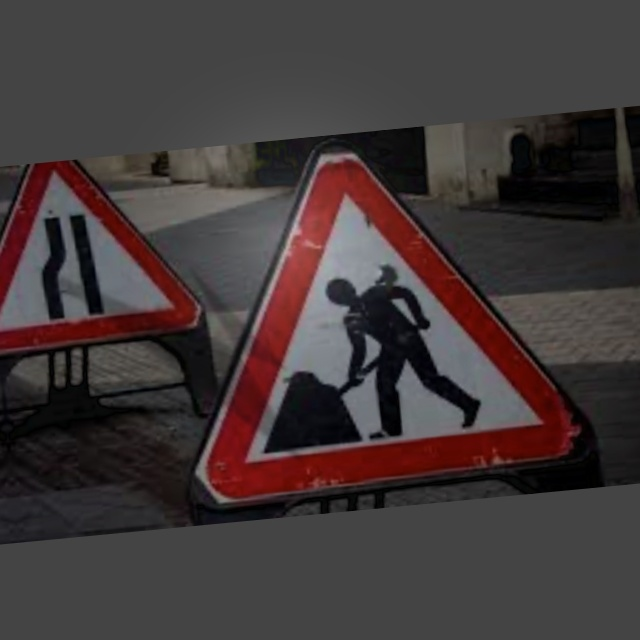Men_at_Work: (171, 159, 577, 515)
